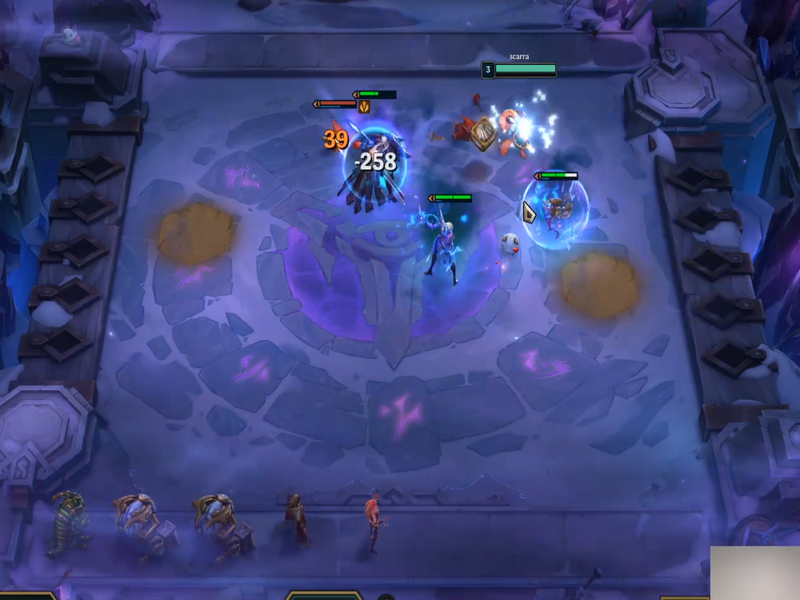karma 1: (412, 205, 472, 289)
leona 1: (336, 119, 411, 214)
